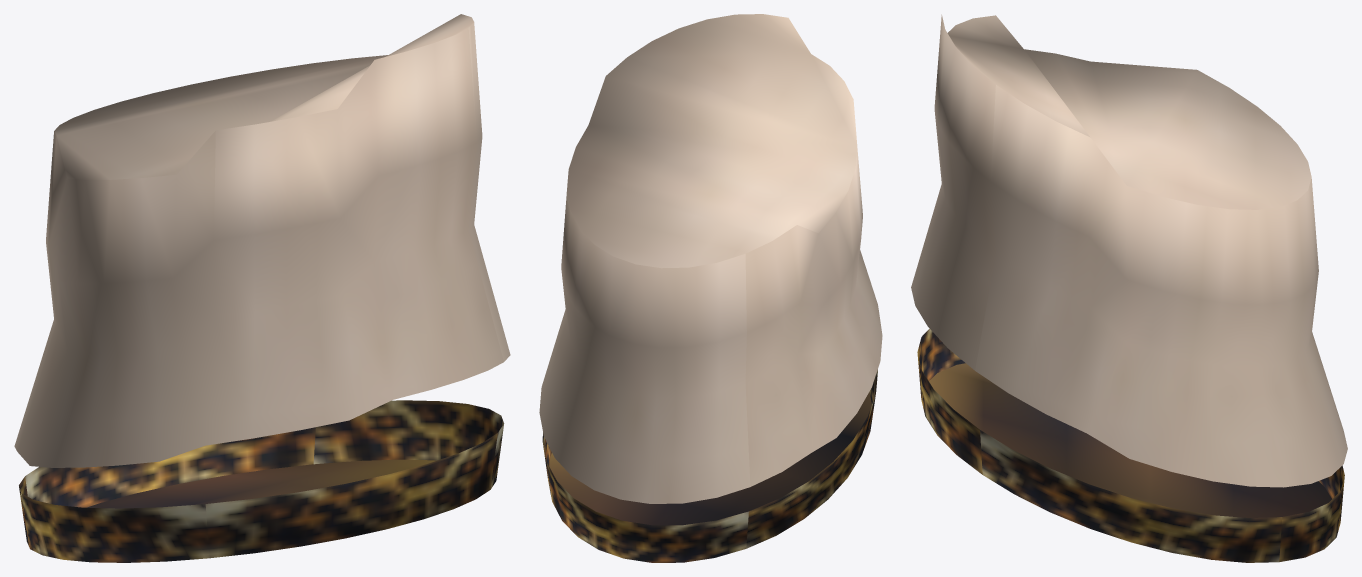
The model's file is maya_nobre_turb_3.dae.
3 views of the same model, side by side, from view 1: azimuth 30°, elevation 25°; view 2: azimuth 150°, elevation 25°; view 3: azimuth 270°, elevation 25° (orthographic). The views are drawn at different scales.
Visible parts, largest first — view 1: helmet_b_ 3; view 2: helmet_b_ 3; view 3: helmet_b_ 3.
Boxes of the visible parts, <box> form: helmet_b_ 3: <box>14,14,510,562</box>; helmet_b_ 3: <box>539,14,882,562</box>; helmet_b_ 3: <box>911,14,1347,562</box>.
Bounding box in the file's own units: 0.5179 × 0.5541 × 0.7122.
